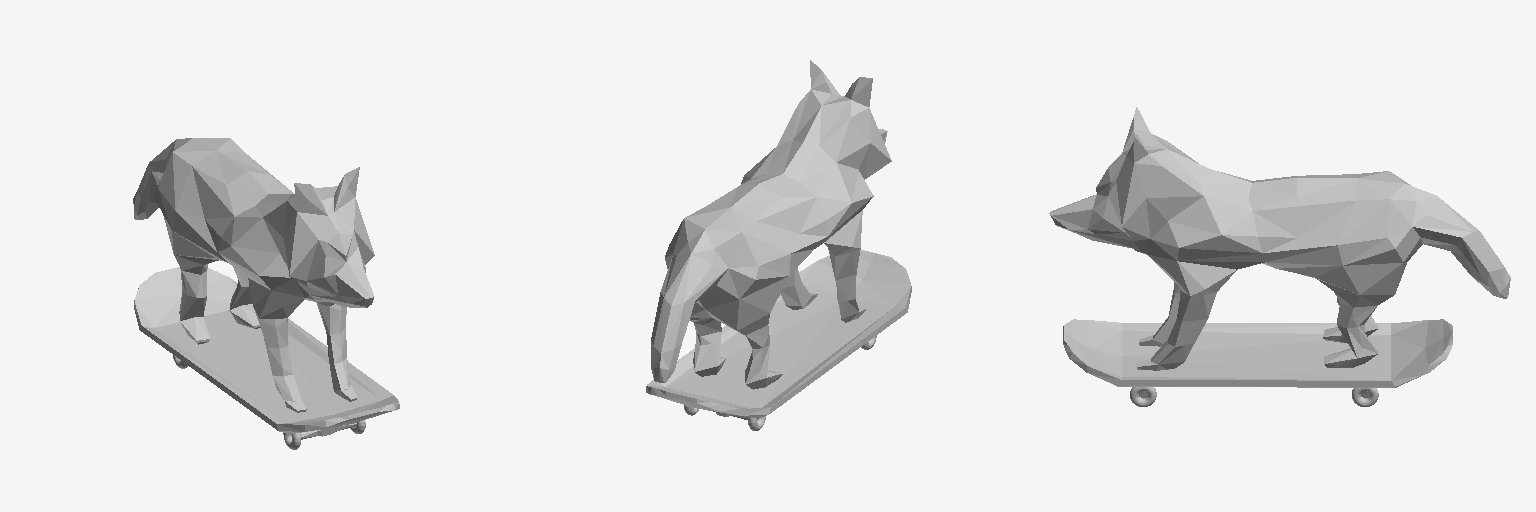
File: WaschbaerSchritt1.obj
The picture shows the model from 3 angles: view 1: azimuth 30°, elevation 25°; view 2: azimuth 150°, elevation 25°; view 3: azimuth 270°, elevation 25°; orthographic projection.
Visible parts, largest first — view 1: initialShadingGroup pCube1 polySurface1, initialShadingGroup pCube2 polySurface1; view 2: initialShadingGroup pCube1 polySurface1, initialShadingGroup pCube2 polySurface1; view 3: initialShadingGroup pCube1 polySurface1, initialShadingGroup pCube2 polySurface1.
Part boxes in pixels (left/top/right/bottom): initialShadingGroup pCube1 polySurface1: left=133, top=138, right=374, bottom=412; initialShadingGroup pCube2 polySurface1: left=134, top=267, right=399, bottom=439; initialShadingGroup pCube1 polySurface1: left=651, top=60, right=891, bottom=389; initialShadingGroup pCube2 polySurface1: left=646, top=250, right=911, bottom=419; initialShadingGroup pCube1 polySurface1: left=1049, top=107, right=1510, bottom=370; initialShadingGroup pCube2 polySurface1: left=1063, top=319, right=1452, bottom=397.
Bounding box in the file's own units: 3.58 × 7.88 × 12.18.